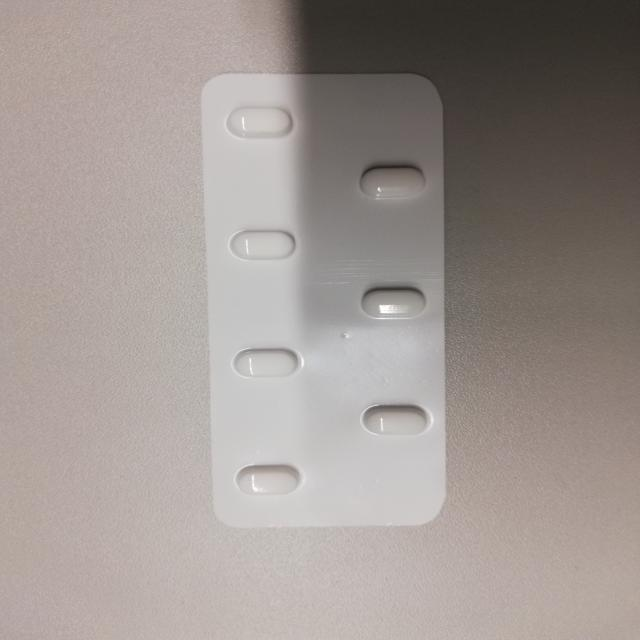Pill: (220, 340, 326, 388), (218, 93, 306, 146), (350, 158, 439, 210), (218, 220, 308, 268), (228, 456, 316, 502), (354, 275, 433, 326), (359, 397, 435, 442)
